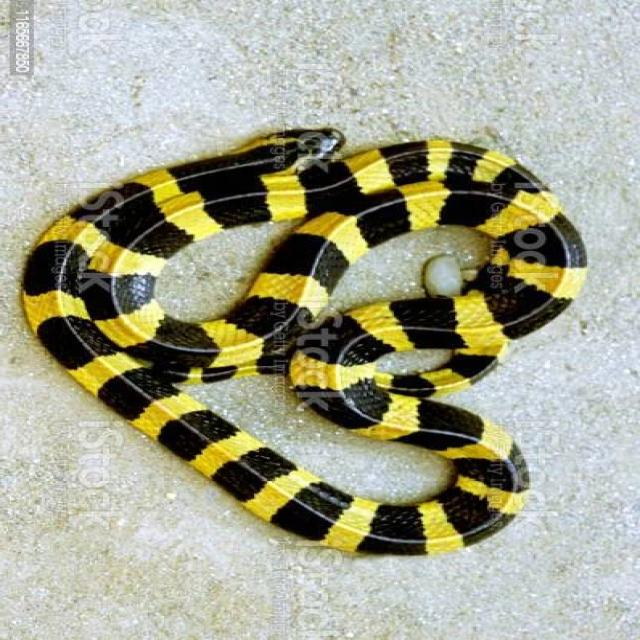Venomous: (136, 123, 412, 303)
